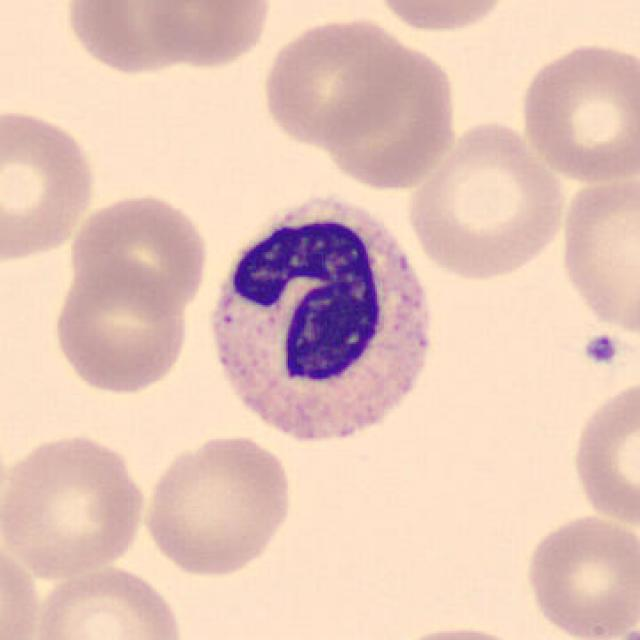Neutrophil: (196, 185, 446, 460)
Platelets: (580, 330, 624, 370)
RBC: (402, 116, 570, 284), (50, 0, 281, 111), (139, 430, 297, 580), (316, 35, 462, 192), (2, 428, 149, 580), (258, 12, 414, 150), (48, 256, 192, 398), (66, 189, 213, 317), (516, 37, 638, 185), (0, 104, 100, 264), (519, 509, 638, 640), (555, 164, 638, 338), (26, 560, 186, 640), (60, 0, 210, 76), (567, 374, 638, 529), (140, 0, 276, 71), (367, 0, 517, 35), (0, 538, 46, 638), (379, 622, 537, 640), (579, 619, 640, 640)
